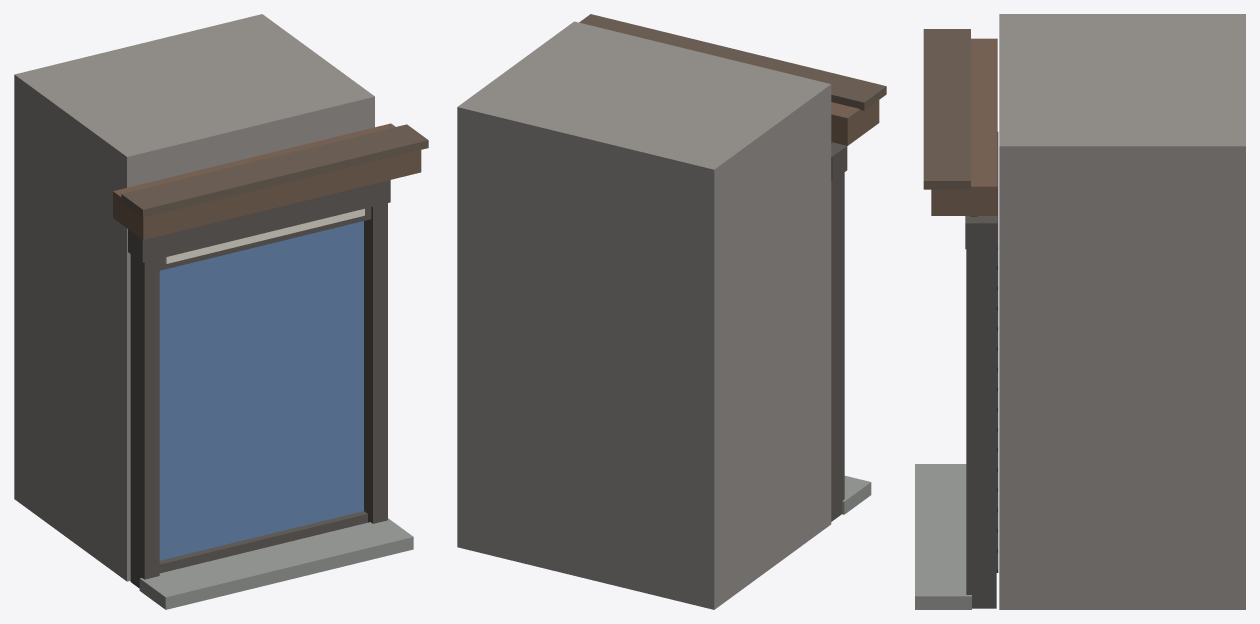
The model's file is prop_shutter_shop_ao.glb.
3 views of the same model, side by side, from view 1: azimuth 30°, elevation 25°; view 2: azimuth 150°, elevation 25°; view 3: azimuth 270°, elevation 25° (orthographic). The views are drawn at different scales.
Visible parts, largest first — view 1: shutter_shop_ao; view 2: shutter_shop_ao; view 3: shutter_shop_ao.
Boxes of the visible parts, <box> form: shutter_shop_ao: <box>14,14,428,609</box>; shutter_shop_ao: <box>457,14,886,609</box>; shutter_shop_ao: <box>915,14,1245,609</box>.
Bounding box in the file's own units: 3.8 × 5.4 × 3.49.
